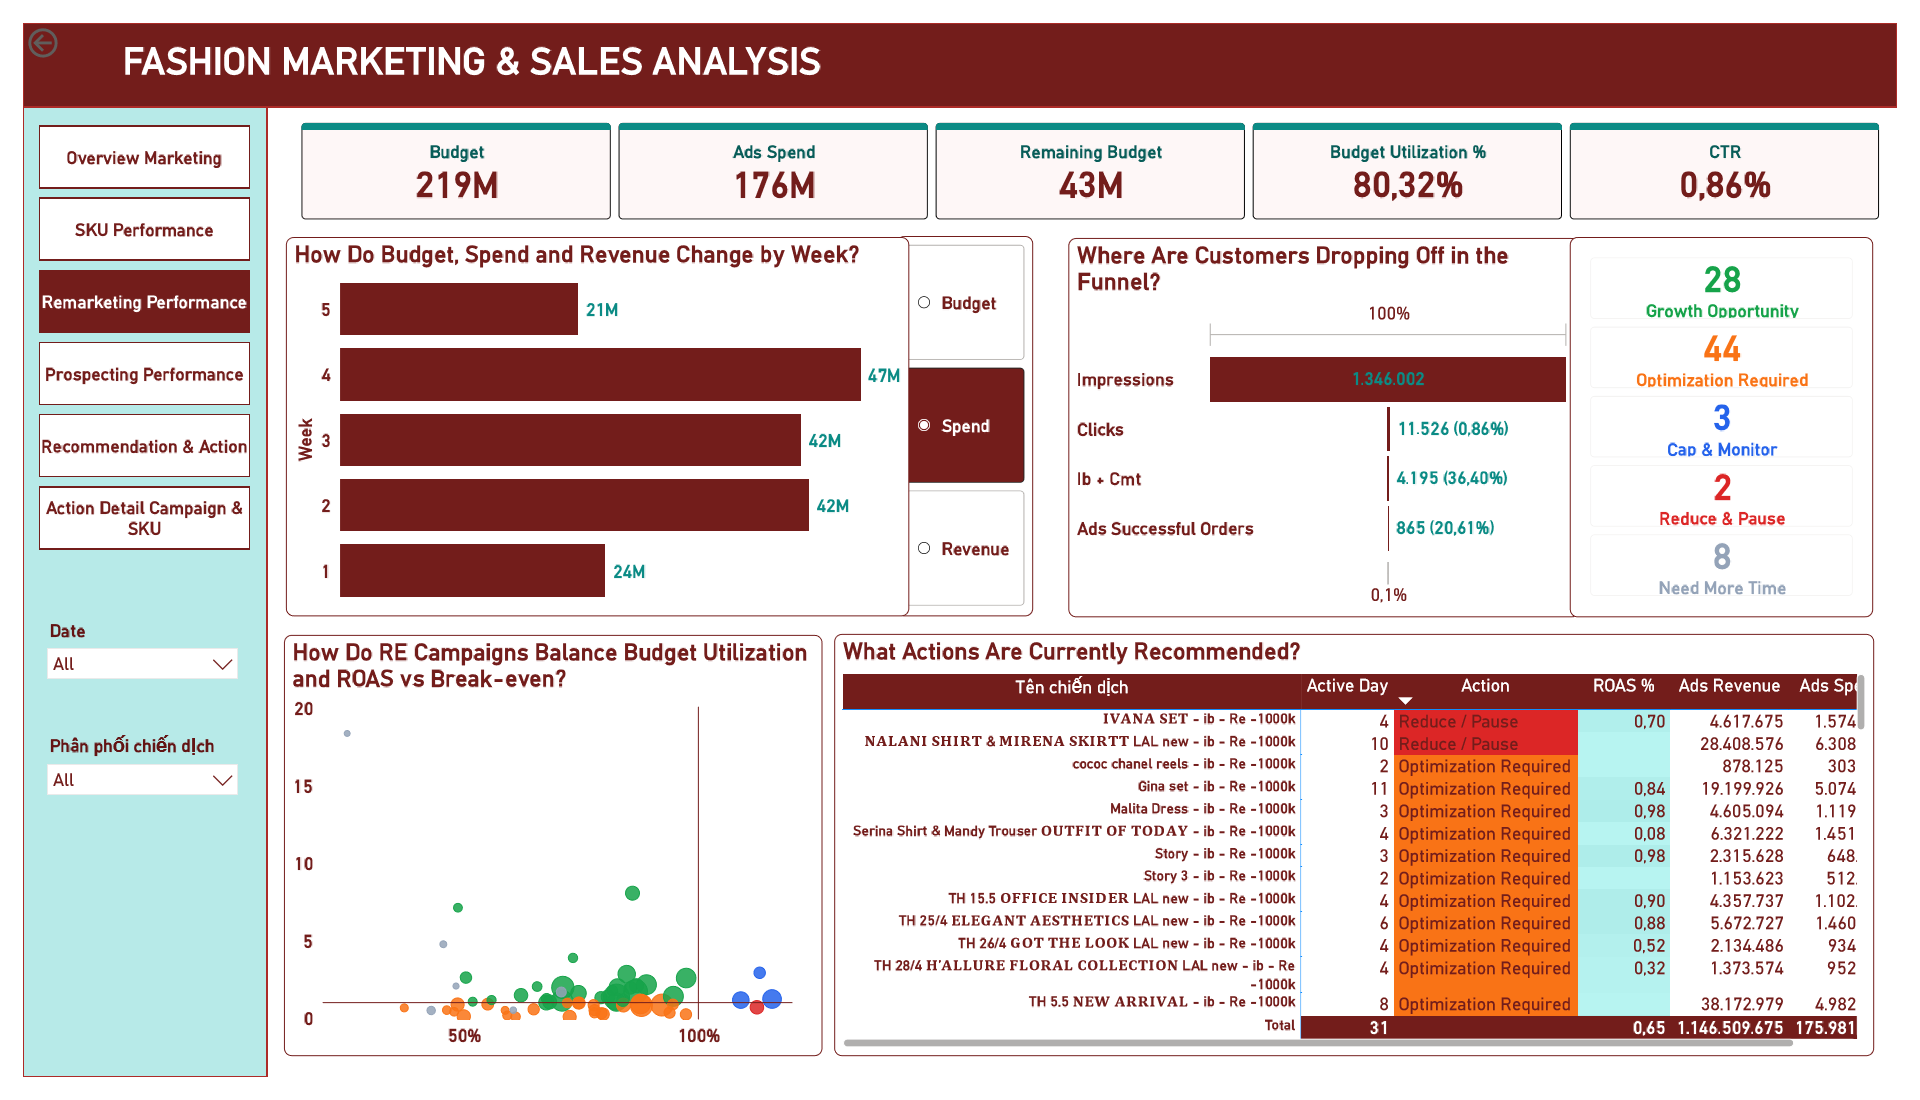

The page's visual inventory and layout, read from the dashboard file:
{"tool":"powerbi","page":{"name":"Remarketing Performance","canvas":[1920,1080],"ordinal":2},"visuals":[{"type":"shape","box":[0,85,250,995],"z":0},{"type":"cardVisual","fields":{"Data":["_Measure.Total Budget","_Measure.Marketing Spend","_Measure._Remaining Budget","_Measure.Budget Utilization %","_Measure._CTR"]},"box":[268.3,85,1651.7,133.3],"z":1000},{"type":"shape","box":[0,0,1920,85.7],"z":2000},{"type":"actionButton","box":[0,0,100,40],"z":3000},{"type":"funnel","title":"Where Are Customers Dropping Off in the Funnel?","fields":{"Y":["_Measure.Impressions","_Measure.Clicks","_Measure._Ib + Cmt","_Measure.Ads Orders"]},"box":[1071.3,219.9,524,389.4],"z":4000},{"type":"scatterChart","title":"How Do RE Campaigns Balance Budget Utilization and ROAS vs Break-even?","fields":{"Category":["fact_mkt_camp_by_sku_cost.Tên chiến dịch"],"Size":["_Measure.Marketing Spend"],"X":["_Measure._Budget Utilization %"],"Y":["_Measure.ROAS vs Break-even"]},"box":[267.1,627.1,551.4,431.4],"z":5000},{"type":"pivotTable","title":"What Actions Are Currently Recommended?","fields":{"Rows":["fact_mkt_camp_by_sku_cost.Tên chiến dịch"],"Values":["_Measure.Campaign Active Days","_Measure.Util x ROAS Decision","_Measure.ROAS vs Break-even","_Measure.Ads Revenue","_Measure.Ads Spend"]},"box":[831,626.5,1066,432.5],"z":6000},{"type":"cardVisual","title":"Action_RE","fields":{"Data":["_Measure.RE Growth Count","_Measure.RE Optimization Count","_Measure.RE Cap Monitor Count","_Measure.RE Reduce Pause Count","_Measure.RE Need More Data Count"]},"box":[1585.5,219.1,311,389.9],"z":7000},{"type":"textbox","box":[97.1,11.4,798.6,62.9],"z":8000},{"type":"advancedSlicerVisual","fields":{"Values":["Parameter_Page_1.Parameter"]},"box":[895.2,217.9,140.2,389.9],"z":8500},{"type":"clusteredBarChart","title":"How Do Budget, Spend and Revenue Change by Week?","fields":{"Category":["dim_date.Tuần trong tháng"],"Y":["_Measure.Ads Spend"]},"box":[269.1,218.7,639.1,389.4],"z":9000},{"type":"slicer","fields":{"Values":["dim_date.Date"]},"box":[14.2,606.8,216.1,102.2],"z":11000},{"type":"slicer","fields":{"Values":["fact_mkt_camp_by_sku_cost.Phân phối chiến dịch"]},"box":[14.2,723.2,216.1,91.9],"z":12000},{"type":"pageNavigator","box":[15.5,104.8,216.1,434.7],"z":13000}]}

Visuals, with their boxes in screenshot pixels (x1, y1, x2, y2), scaled from the page's 1920x1080 canvas onto the 1920x1100 screenshot:
shape: x1=0, y1=87, x2=250, y2=1099
cardVisual - _Measure.Total Budget x _Measure.Marketing Spend: x1=268, y1=87, x2=1919, y2=222
shape: x1=0, y1=0, x2=1919, y2=87
actionButton: x1=0, y1=0, x2=100, y2=41
"Where Are Customers Dropping Off in the Funnel?" funnel: x1=1071, y1=224, x2=1595, y2=621
"How Do RE Campaigns Balance Budget Utilization and ROAS vs Break-even?" scatterChart: x1=267, y1=639, x2=818, y2=1078
"What Actions Are Currently Recommended?" pivotTable: x1=831, y1=638, x2=1897, y2=1079
"Action_RE" cardVisual: x1=1586, y1=223, x2=1896, y2=620
textbox: x1=97, y1=12, x2=896, y2=76
advancedSlicerVisual - Parameter_Page_1.Parameter: x1=895, y1=222, x2=1035, y2=619
"How Do Budget, Spend and Revenue Change by Week?" clusteredBarChart: x1=269, y1=223, x2=908, y2=619
slicer - dim_date.Date: x1=14, y1=618, x2=230, y2=722
slicer - fact_mkt_camp_by_sku_cost.Phân phối chiến dịch: x1=14, y1=737, x2=230, y2=830
pageNavigator: x1=16, y1=107, x2=232, y2=549
